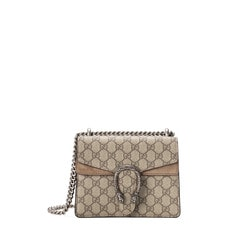Gucci: (70, 120, 185, 222), (86, 138, 164, 164), (107, 159, 146, 207)
